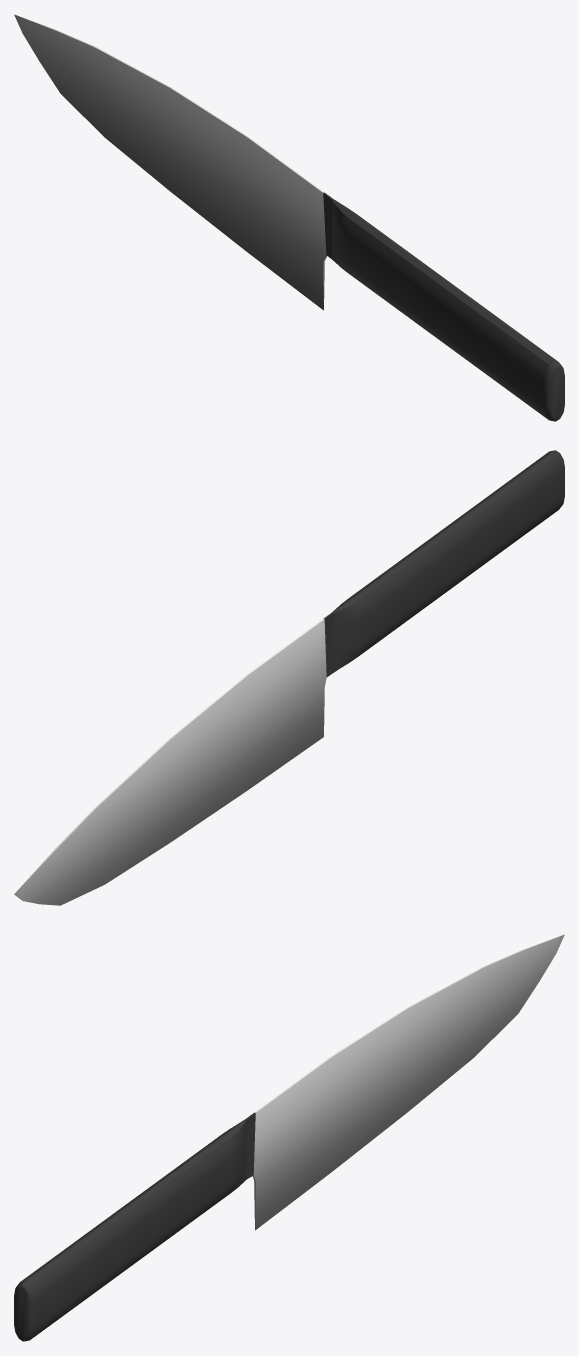
Rendered from Medium Knife.fbx.
3 views of the same model, one above another, from view 1: azimuth 30°, elevation 25°; view 2: azimuth 150°, elevation 25°; view 3: azimuth 330°, elevation 25° (orthographic).
Parts seen in each view (by area): view 1: Medium Knife; view 2: Medium Knife; view 3: Medium Knife.
Boxes of the visible parts, box(x1,y1,x2,y2) form: Medium Knife: box(14, 14, 564, 421); Medium Knife: box(14, 450, 564, 905); Medium Knife: box(14, 934, 564, 1341).
Size of the model in its own units: 1.17 by 6.57 by 54.83.
